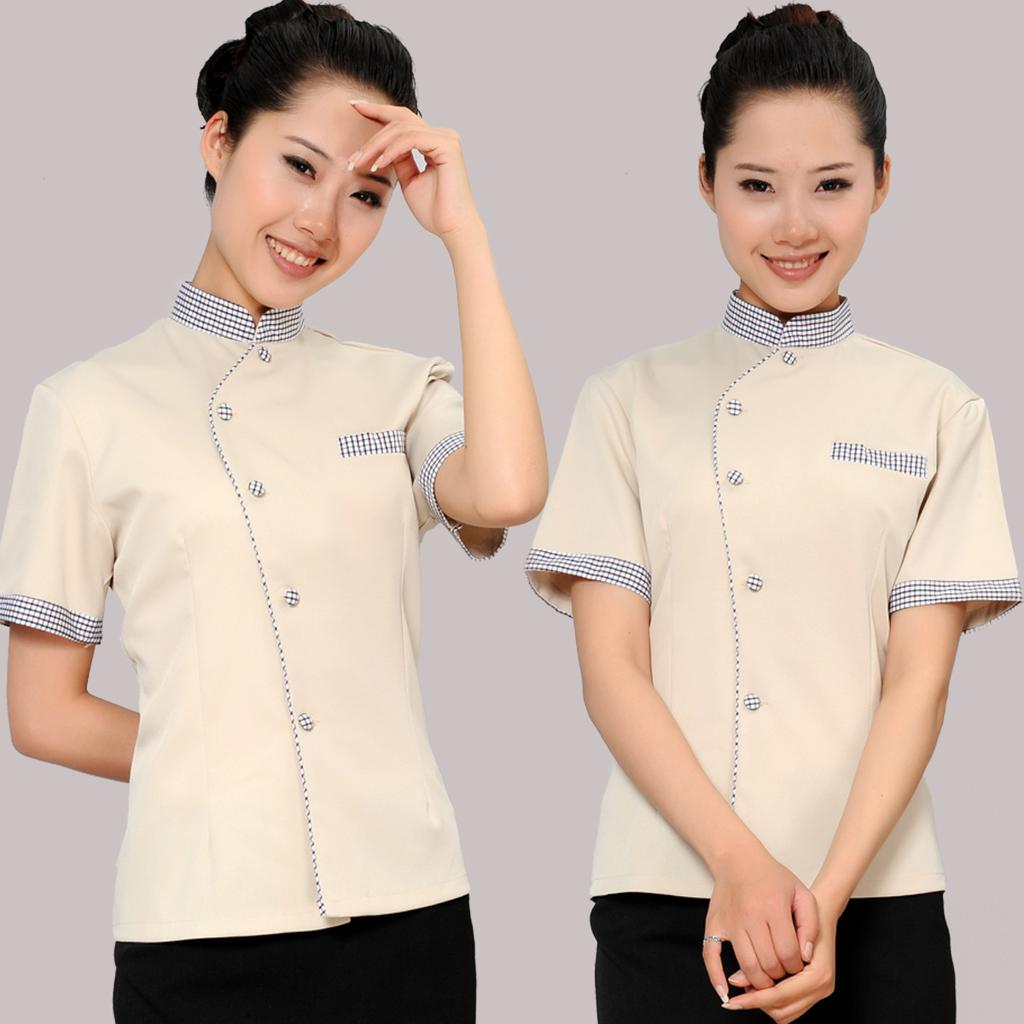face: (216, 82, 404, 314), (714, 74, 878, 316)
